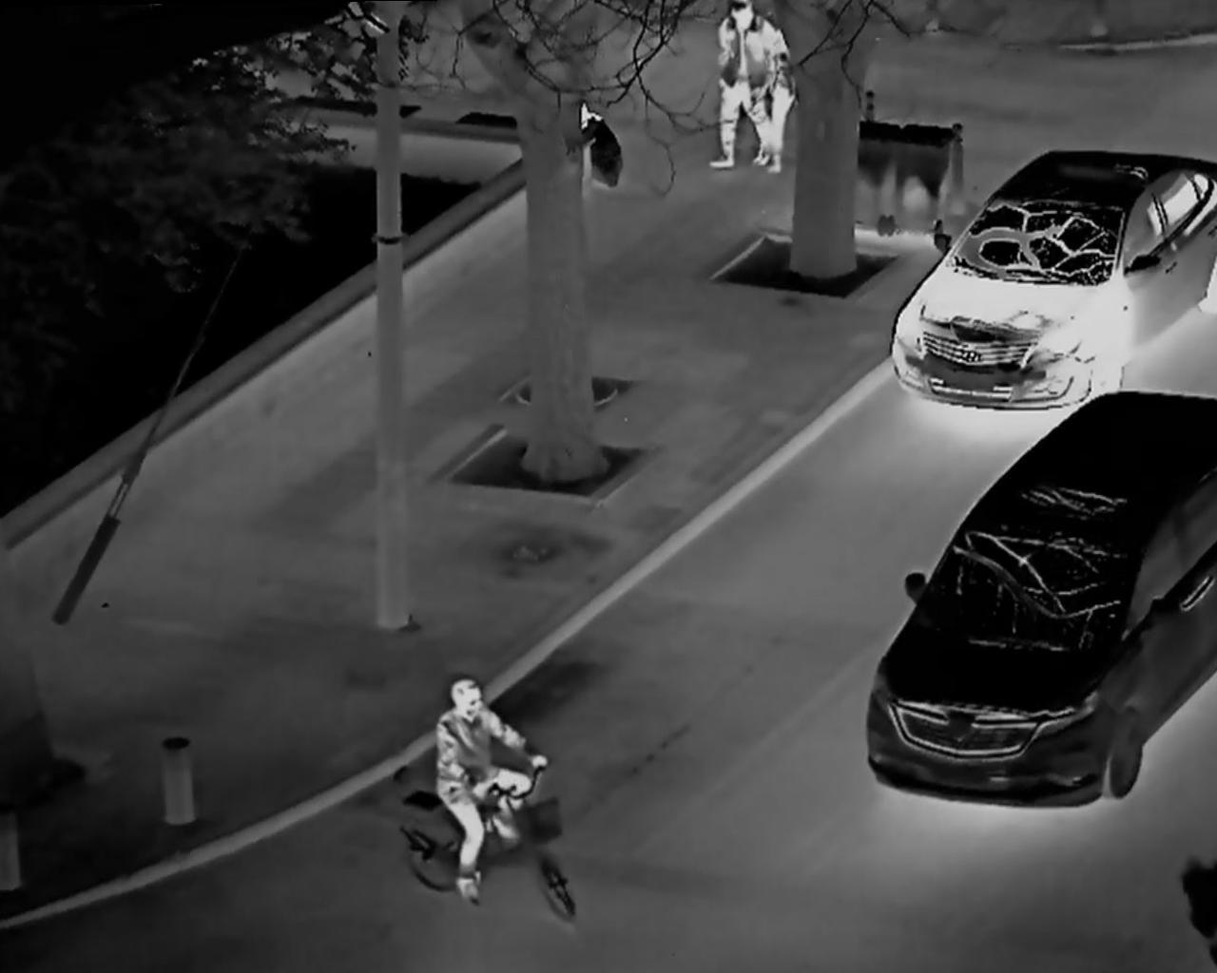person: (420, 661, 551, 903), (716, 2, 783, 176)
